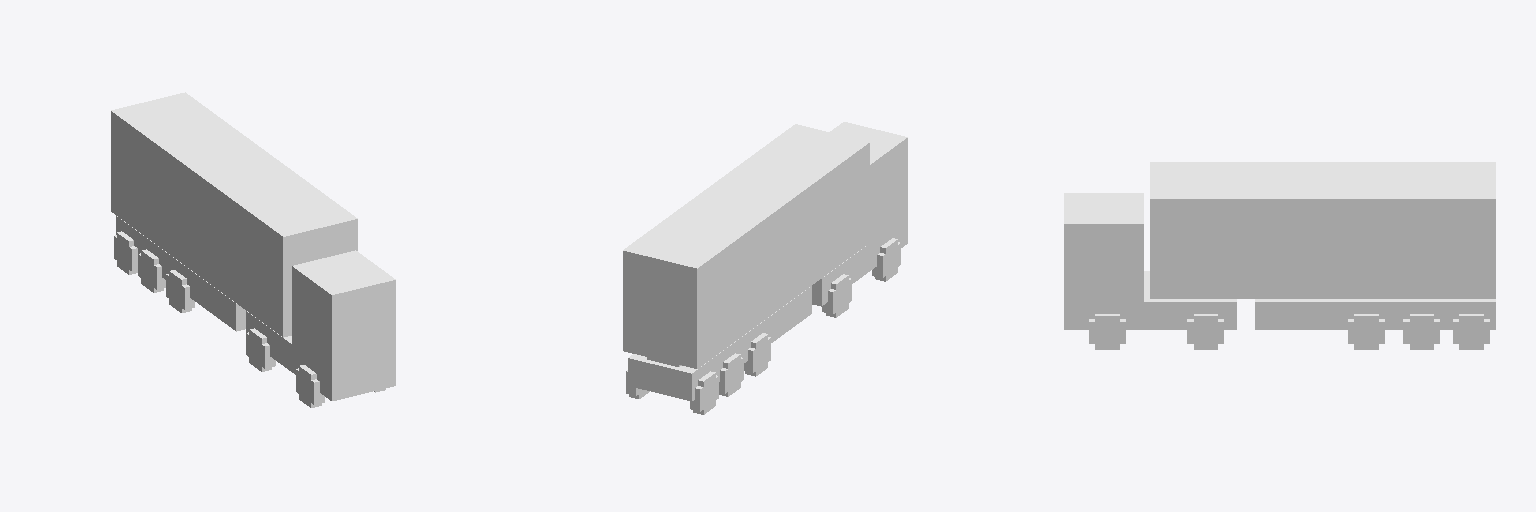
File: truck_white.obj
The picture shows the model from 3 angles: view 1: azimuth 30°, elevation 25°; view 2: azimuth 150°, elevation 25°; view 3: azimuth 270°, elevation 25°; orthographic projection.
Visible parts, largest first — view 1: truck_white; view 2: truck_white; view 3: truck_white.
Part boxes in pixels (x1,y1,x2,y2): truck_white: (111, 92, 395, 407); truck_white: (623, 122, 907, 414); truck_white: (1064, 162, 1495, 349).
Size of the model in its own units: 14 by 27 by 70.